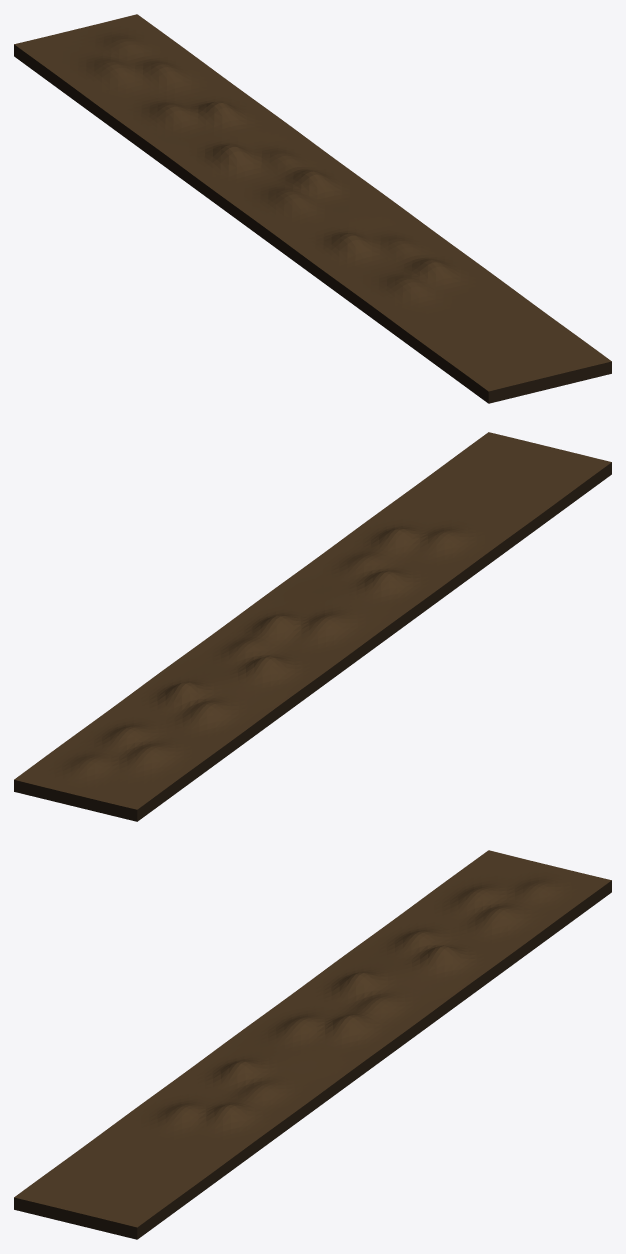
File: MonsterTruckBumpyTerrain.obj
3 renders of one model, top to bottom at view 1: azimuth 30°, elevation 25°; view 2: azimuth 150°, elevation 25°; view 3: azimuth 330°, elevation 25°, orthographic.
Size of the model in its own units: 9 by 1.85 by 60.
